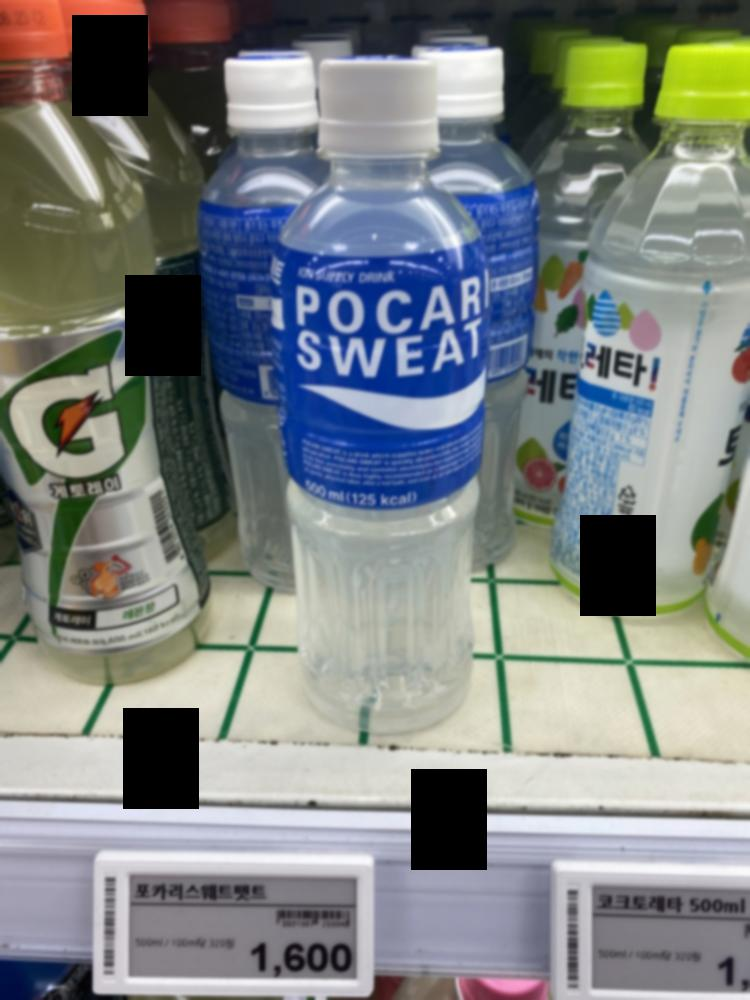gatorade_lemon: (0, 0, 213, 673)
pocarisweat: (268, 43, 504, 743)
